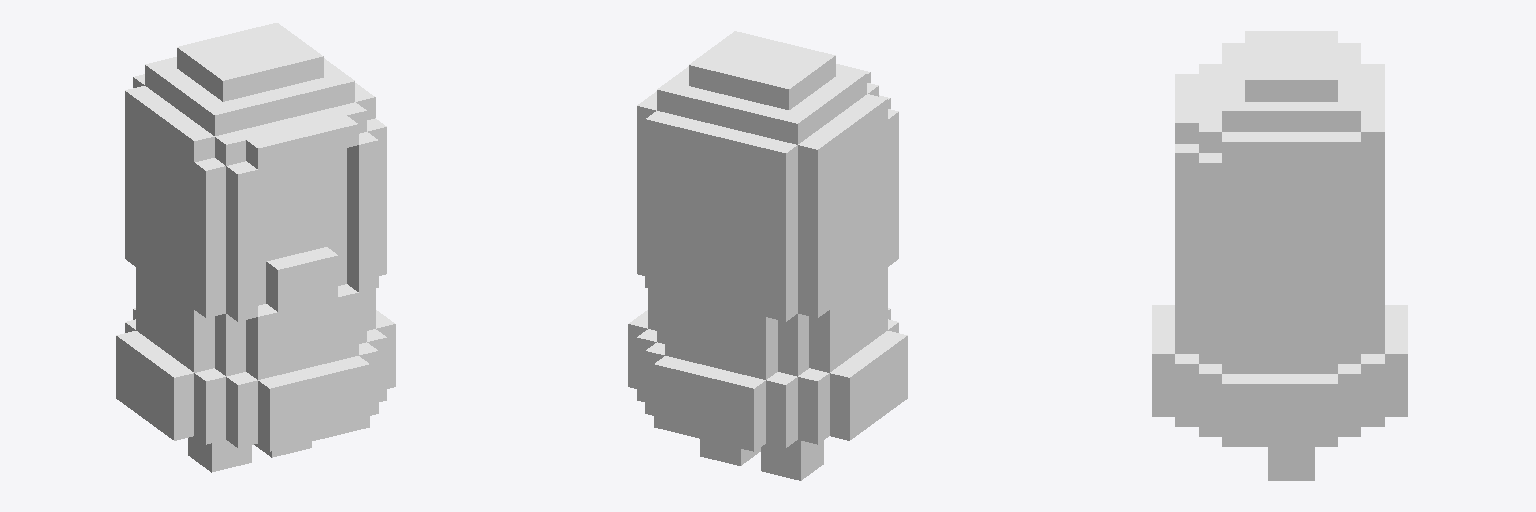
Rendered from character.obj.
3 views of the same model, side by side, from view 1: azimuth 30°, elevation 25°; view 2: azimuth 150°, elevation 25°; view 3: azimuth 270°, elevation 25° (orthographic).
Visible parts, largest first — view 1: object 1; view 2: object 1; view 3: object 1.
Boxes of the visible parts, x1=… form: object 1: x1=116, y1=23, x2=395, y2=472; object 1: x1=628, y1=31, x2=907, y2=480; object 1: x1=1152, y1=31, x2=1407, y2=480.
Size of the model in its own units: 1.1 by 1.9 by 1.1.